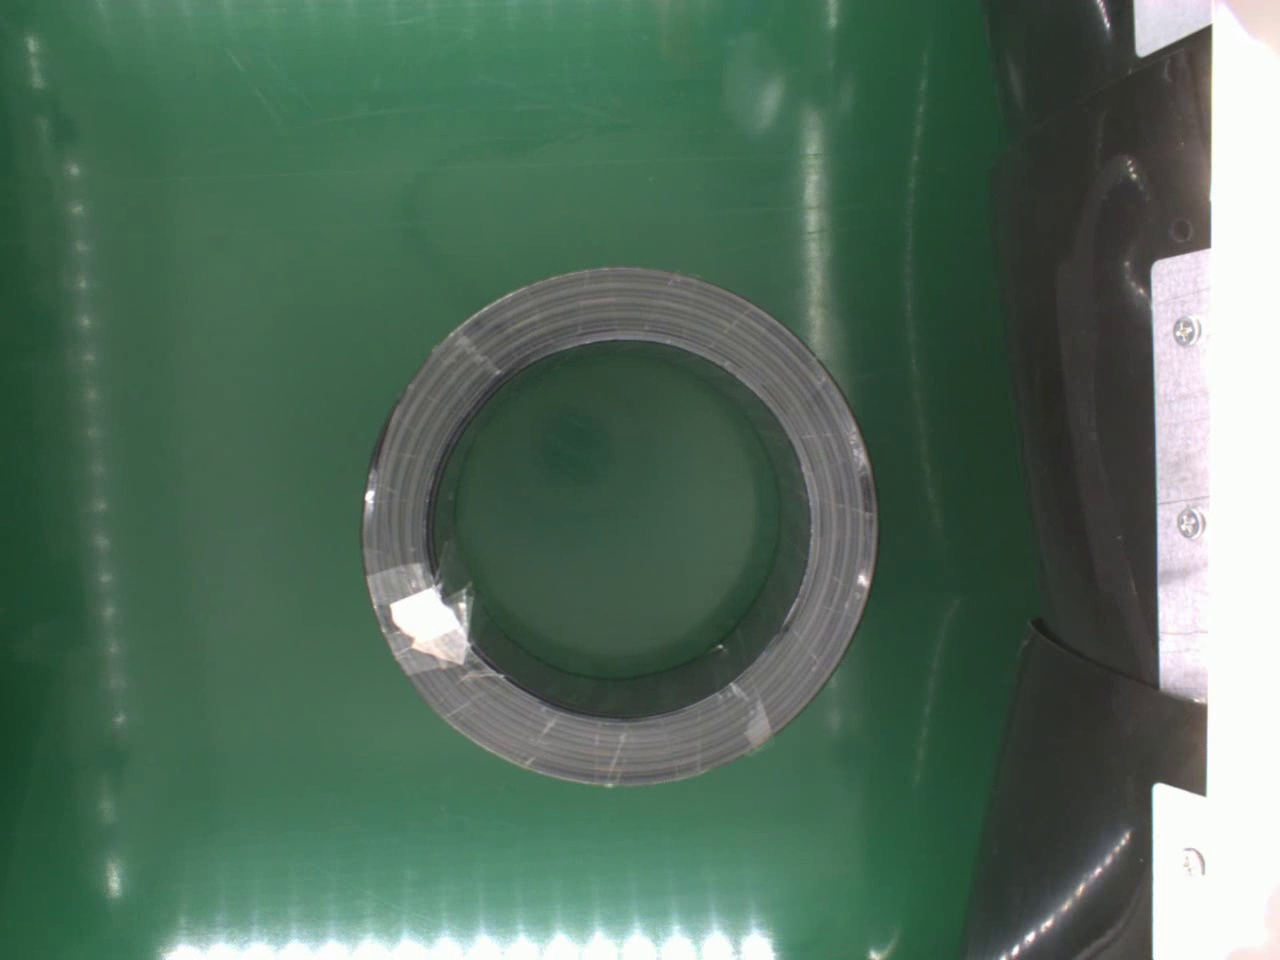black: (361, 258, 884, 787)
